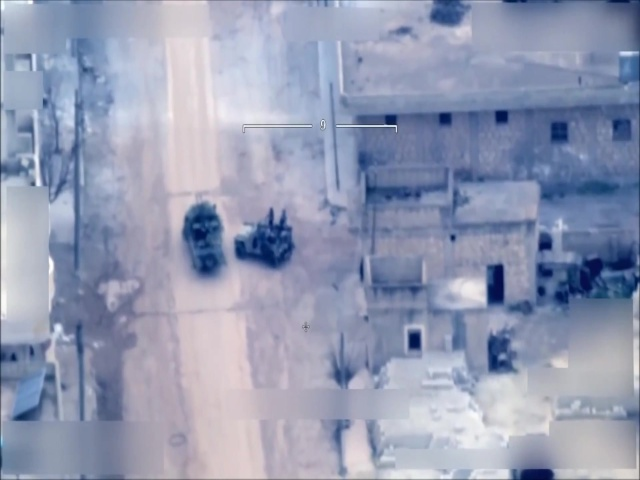vehicle: (179, 199, 228, 272), (233, 214, 296, 269)
